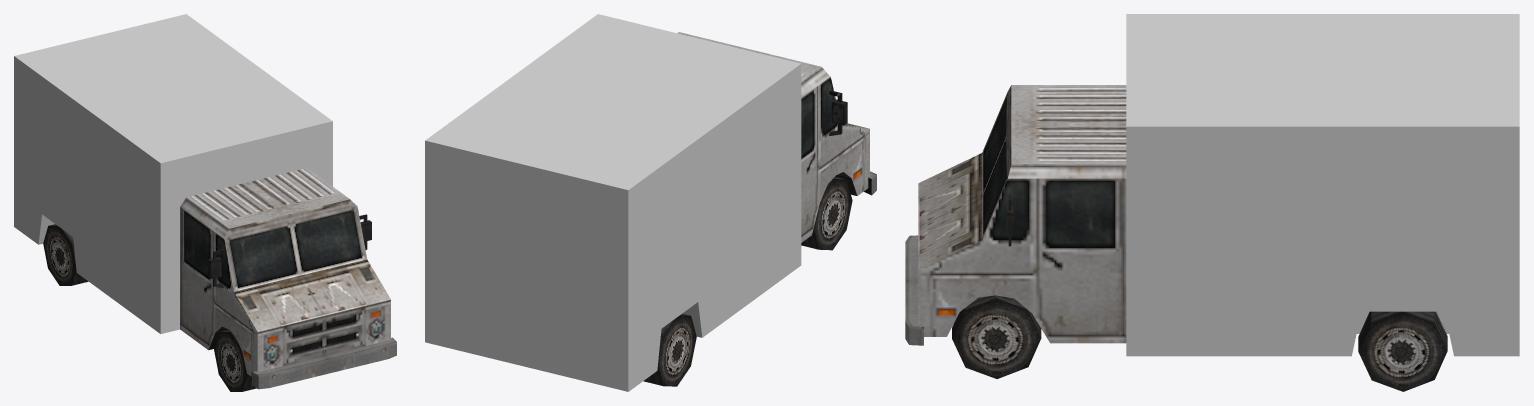
Rendered from BoxTruck_Model.fbx.
The picture shows the model from 3 angles, left to right: view 1: azimuth 30°, elevation 25°; view 2: azimuth 150°, elevation 25°; view 3: azimuth 270°, elevation 25°; orthographic projection. The views are drawn at different scales.
Parts seen in each view (by area): view 1: BoxTruck; view 2: BoxTruck; view 3: BoxTruck.
Part boxes in pixels (x1,y1,x2,y2): BoxTruck: [14, 14, 396, 391]; BoxTruck: [425, 14, 876, 391]; BoxTruck: [905, 14, 1519, 391].
Size of the model in its own units: 237 by 261 by 545.
2 materials, 1 textured.
